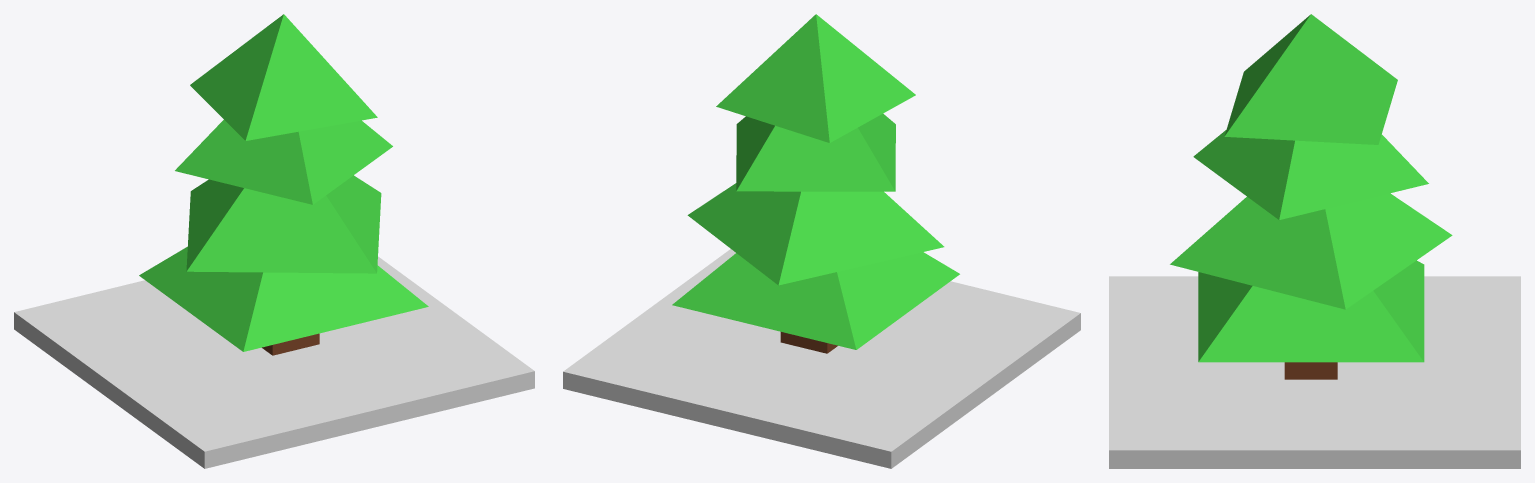
Rendered from Wood_4 02.FBX.
The picture shows the model from 3 angles, left to right: view 1: azimuth 30°, elevation 25°; view 2: azimuth 150°, elevation 25°; view 3: azimuth 270°, elevation 25°; orthographic projection. The views are drawn at different scales.
Parts seen in each view (by area): view 1: Pyramid004, Box005; view 2: Pyramid004, Box005; view 3: Pyramid004, Box005.
Part boxes in pixels (bbox=[...]): Pyramid004: bbox=[139, 14, 428, 355]; Box005: bbox=[14, 256, 534, 468]; Pyramid004: bbox=[672, 14, 959, 353]; Box005: bbox=[563, 249, 1080, 468]; Pyramid004: bbox=[1170, 14, 1452, 379]; Box005: bbox=[1109, 276, 1520, 468].
Bounding box in the file's own units: 1 × 0.9964 × 1.
2 materials, 2 textured.
